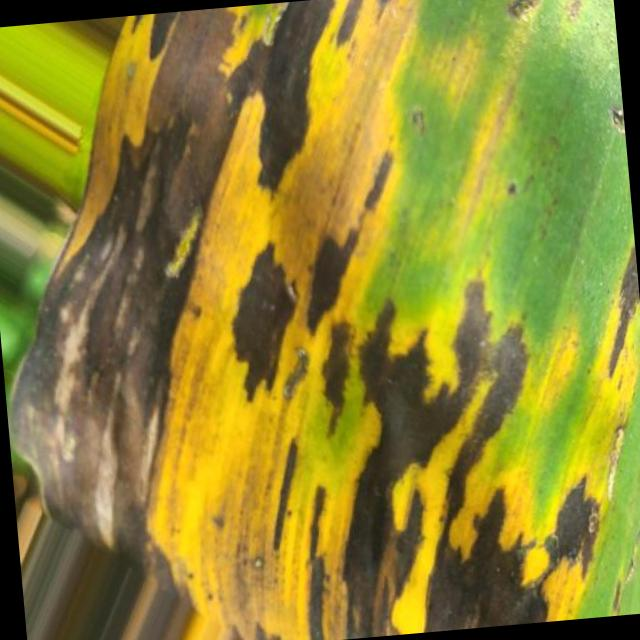Banana_Black_Sigatoka: (0, 0, 364, 512), (252, 306, 640, 640)
